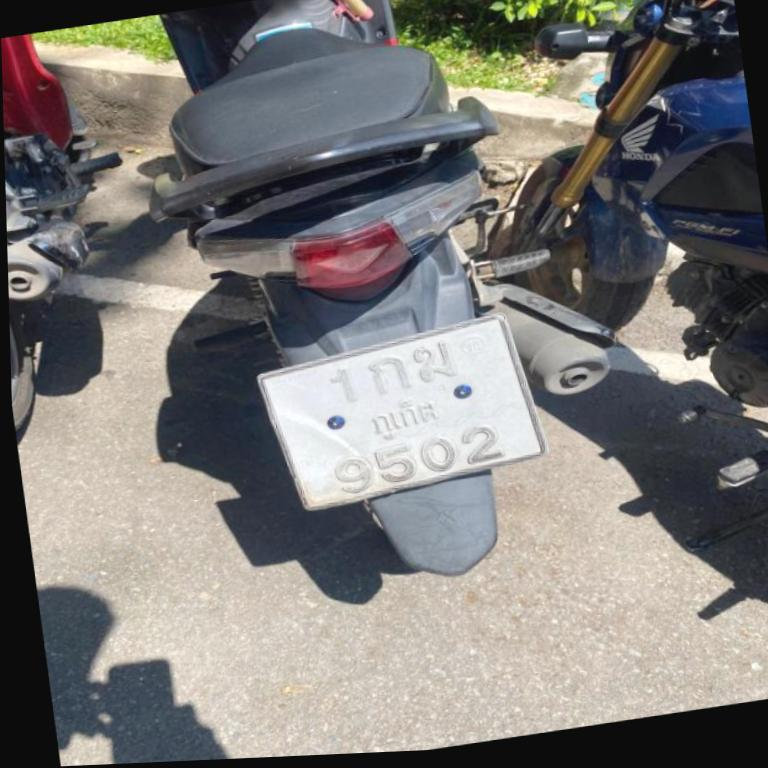license plate: (259, 315, 546, 509)
